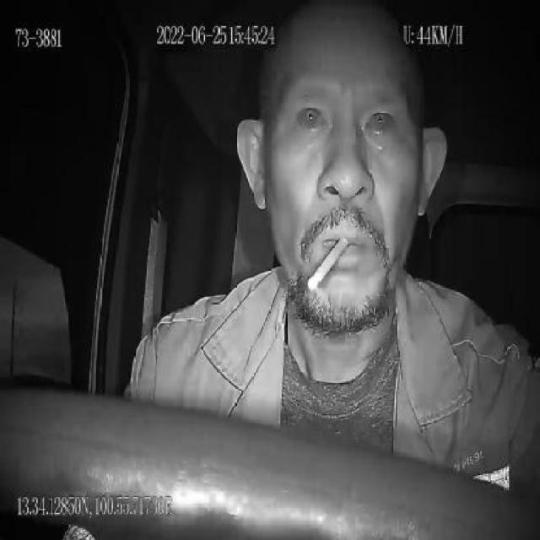smoking: (307, 238, 349, 293)
